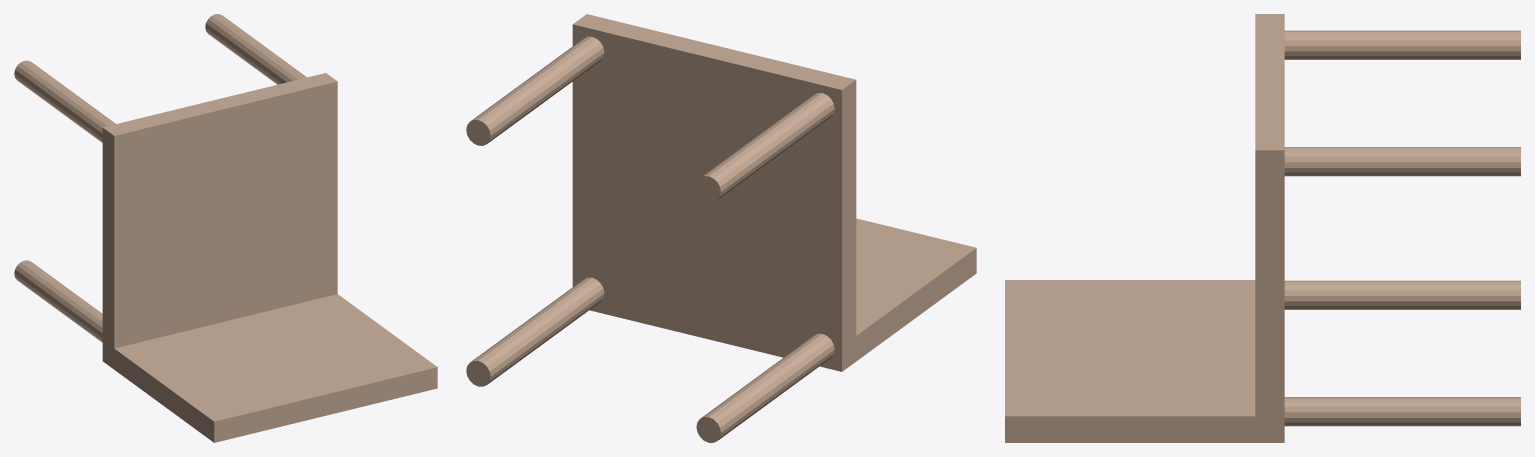
File: chair_pipeline.glb
3 views of the same model, side by side, from view 1: azimuth 30°, elevation 25°; view 2: azimuth 150°, elevation 25°; view 3: azimuth 270°, elevation 25° (orthographic). The views are drawn at different scales.
Visible parts, largest first — view 1: world; view 2: world; view 3: world.
Part boxes in pixels (<box>): world: <box>14,14,437,442</box>; world: <box>466,14,976,442</box>; world: <box>1005,14,1520,442</box>.
Size of the model in its own units: 0.55 by 0.55 by 0.8788.
